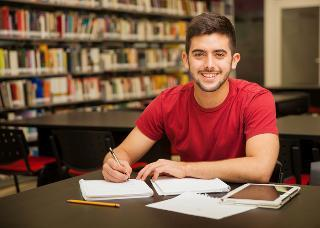person - v3 P: (103, 13, 278, 183)
